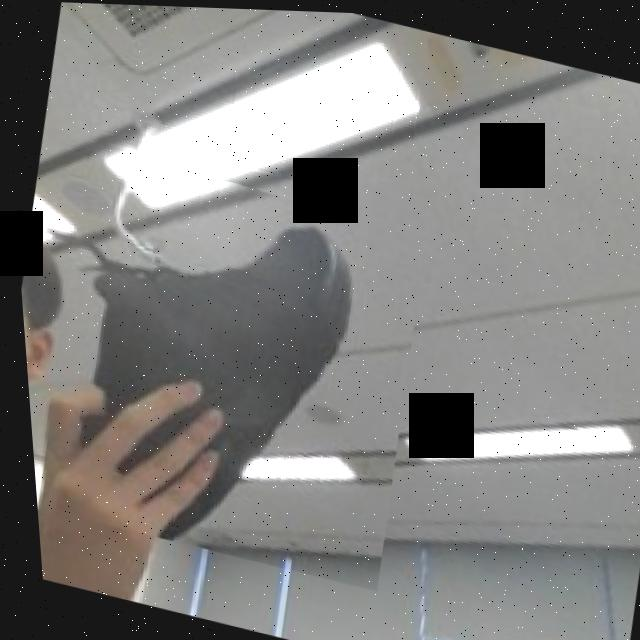shoe: (8, 133, 447, 590)
